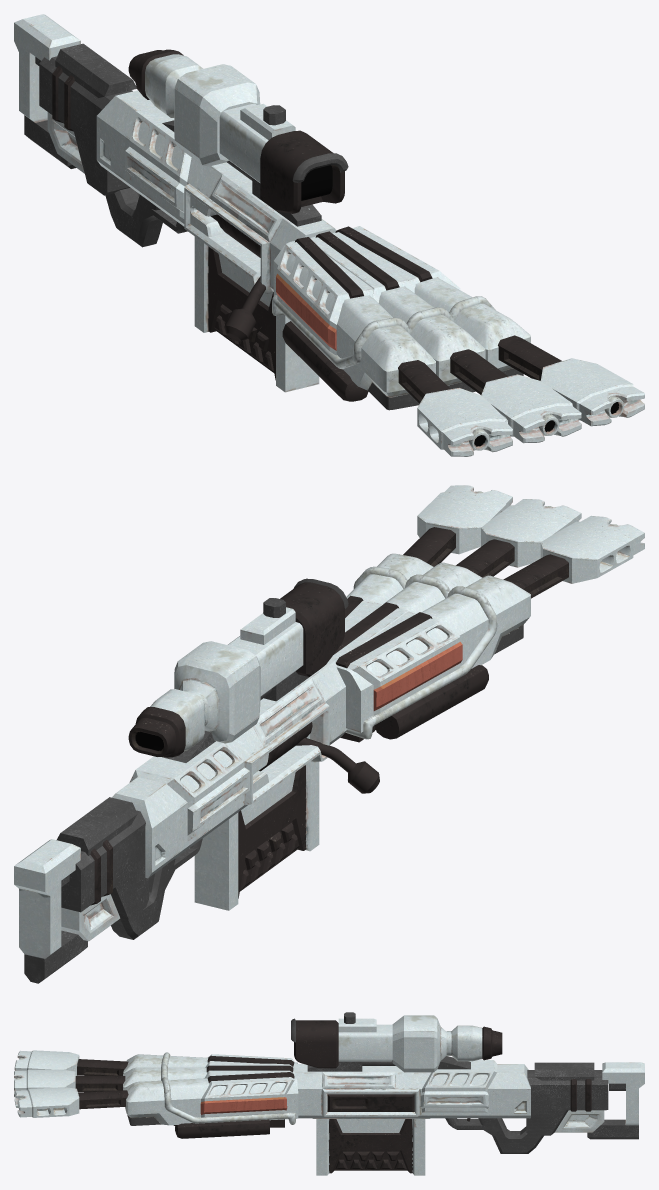
Rendered from SniperTriple.fbx.
3 views of the same model, one above another, from view 1: azimuth 30°, elevation 25°; view 2: azimuth 150°, elevation 25°; view 3: azimuth 270°, elevation 25° (orthographic). The views are drawn at different scales.
Parts seen in each view (by area): view 1: Sniper2; view 2: Sniper2; view 3: Sniper2.
Boxes of the visible parts, <box> form: Sniper2: <box>14,14,644,456</box>; Sniper2: <box>14,485,644,983</box>; Sniper2: <box>14,1012,644,1175</box>.
Bounding box in the file's own units: 61.94 × 78.85 × 290.
